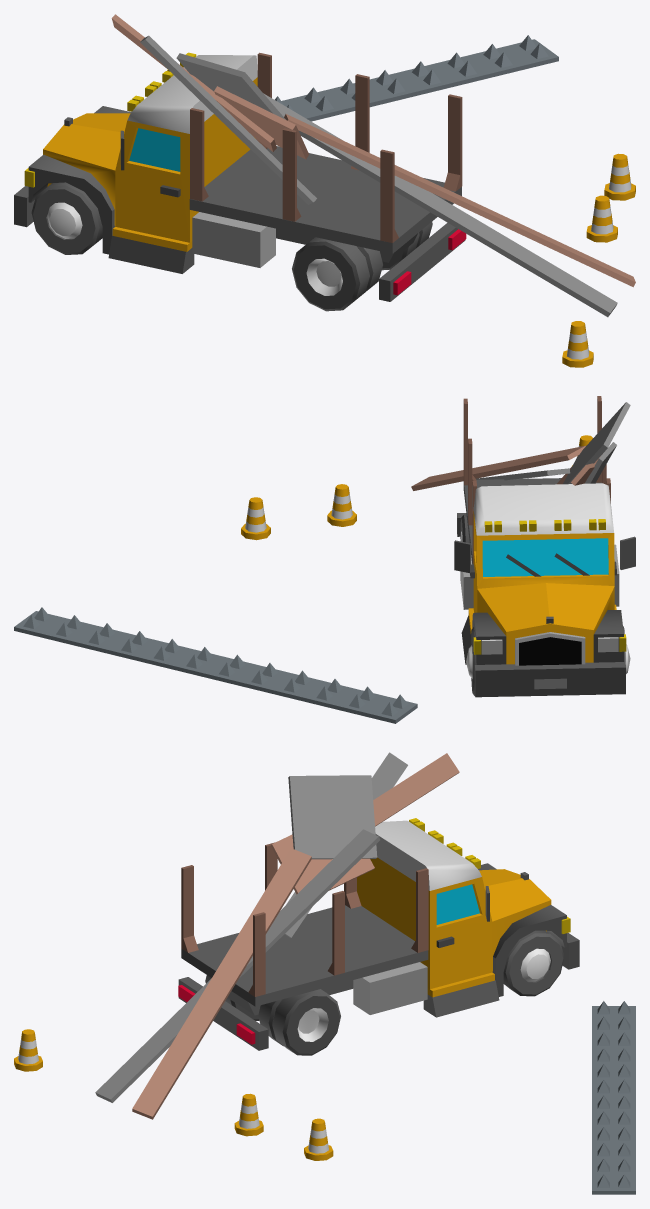
The model's file is track_1.fbx.
3 renders of one model, top to bottom at view 1: azimuth 30°, elevation 25°; view 2: azimuth 150°, elevation 25°; view 3: azimuth 270°, elevation 25°, orthographic. The views are drawn at different scales.
Parts seen in each view (by area): view 1: track_1; view 2: track_1; view 3: track_1.
Part boxes in pixels (x1,y1,x2,y2): track_1: [14, 14, 635, 367]; track_1: [14, 396, 635, 723]; track_1: [14, 752, 635, 1194].
Bounding box in the file's own units: 1591 × 601 × 1590.
